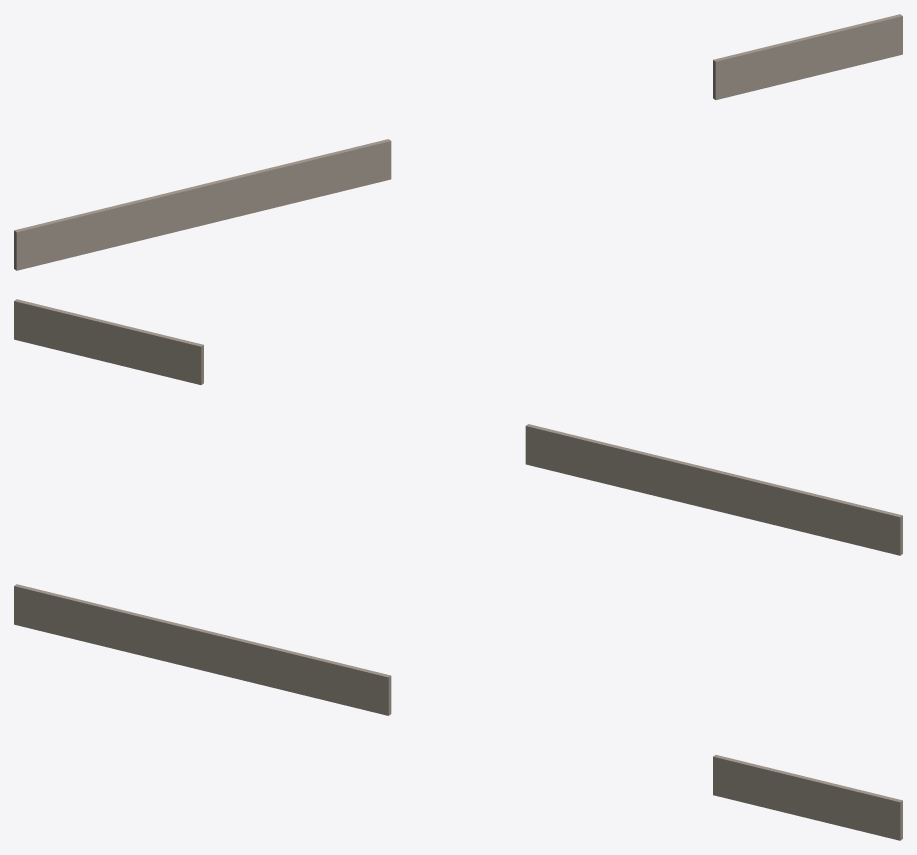
The model's file is SM_Skirting_Living_North_002.fbx.
3 renders of one model, top to bottom at view 1: azimuth 30°, elevation 25°; view 2: azimuth 150°, elevation 25°; view 3: azimuth 330°, elevation 25°, orthographic.
Visible parts, largest first — view 1: SM_Skirting_Living_North_002; view 2: SM_Skirting_Living_North_002; view 3: SM_Skirting_Living_North_002.
Boxes of the visible parts, left/top/right/bottom form: SM_Skirting_Living_North_002: left=14, top=14, right=902, bottom=270; SM_Skirting_Living_North_002: left=14, top=299, right=902, bottom=555; SM_Skirting_Living_North_002: left=14, top=584, right=902, bottom=840.
Size of the model in its own units: 265 by 11 by 1.4.
